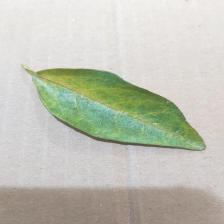healthy: (18, 61, 209, 156)
